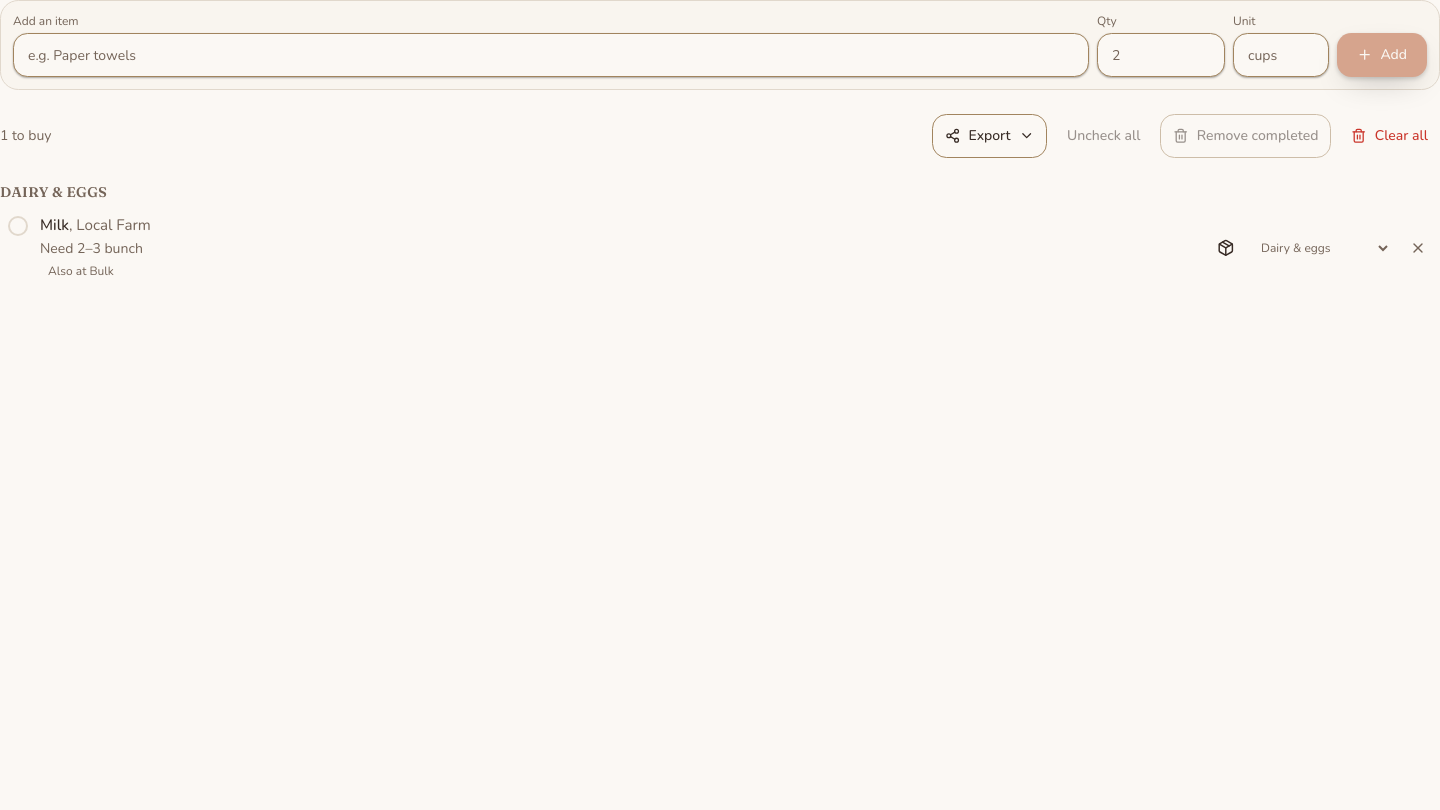
Scenario: ShoppingListView package guidance › preserves an exact non-package quantity when no conversion is valid
The image size is (1440, 810).
Check: the text "Need 2–3 bunch" is shown, box [40,239,143,259]
Check: the text ", Local Farm" is shown, box [69,215,151,235]
What coordinates should you click on to do the following:
click the button named "Edit purchase settings for Milk"
I would click on:
 (1226, 248)
Its box is [1204,226,1248,270].
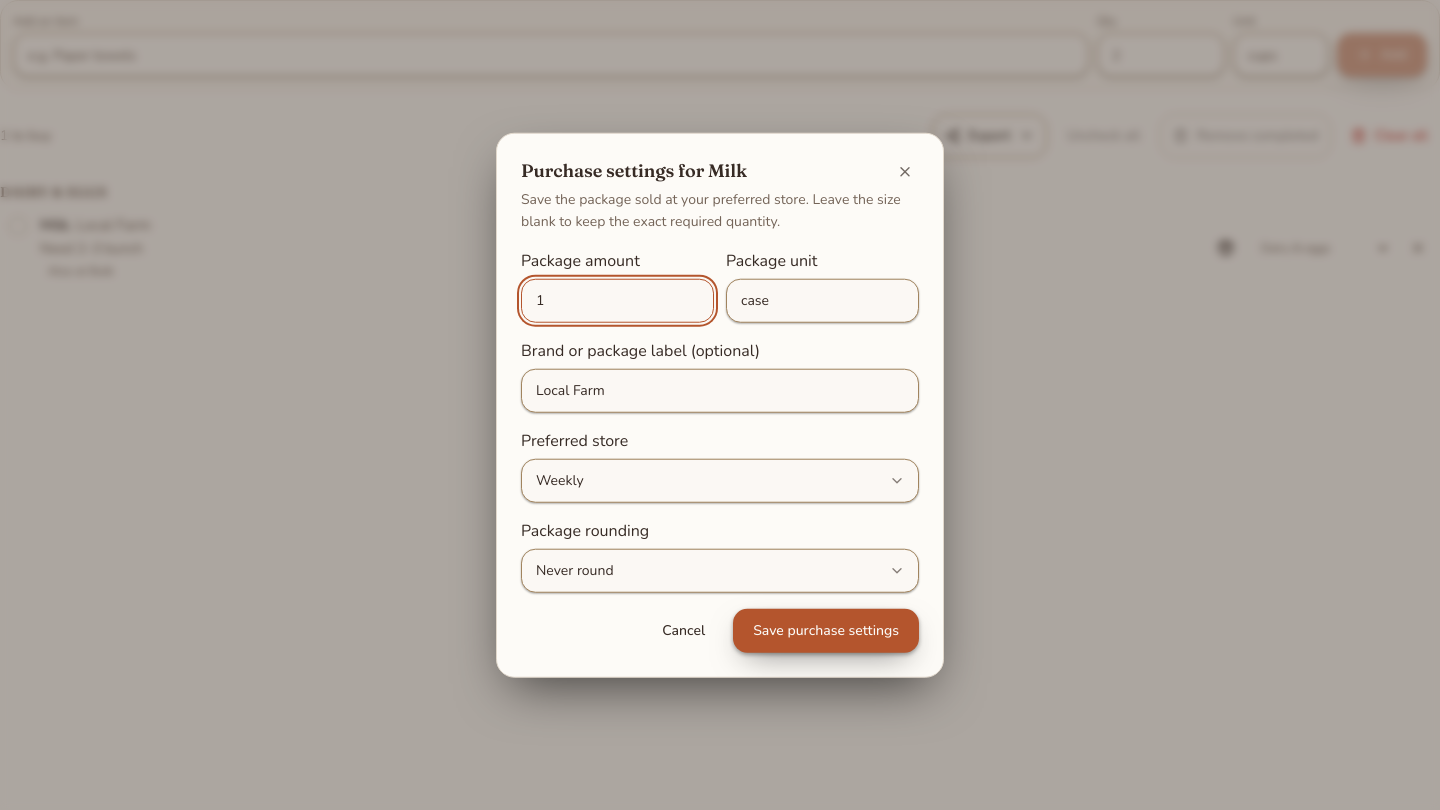
Check: the field labelled "Package amount" holds "1", box [521,278,714,322]
Check: the field labelled "Package unit" holds "case", box [726,278,919,322]
Check: the dropdown labelled "Package rounding" shows "Never round", box [521,548,919,592]
